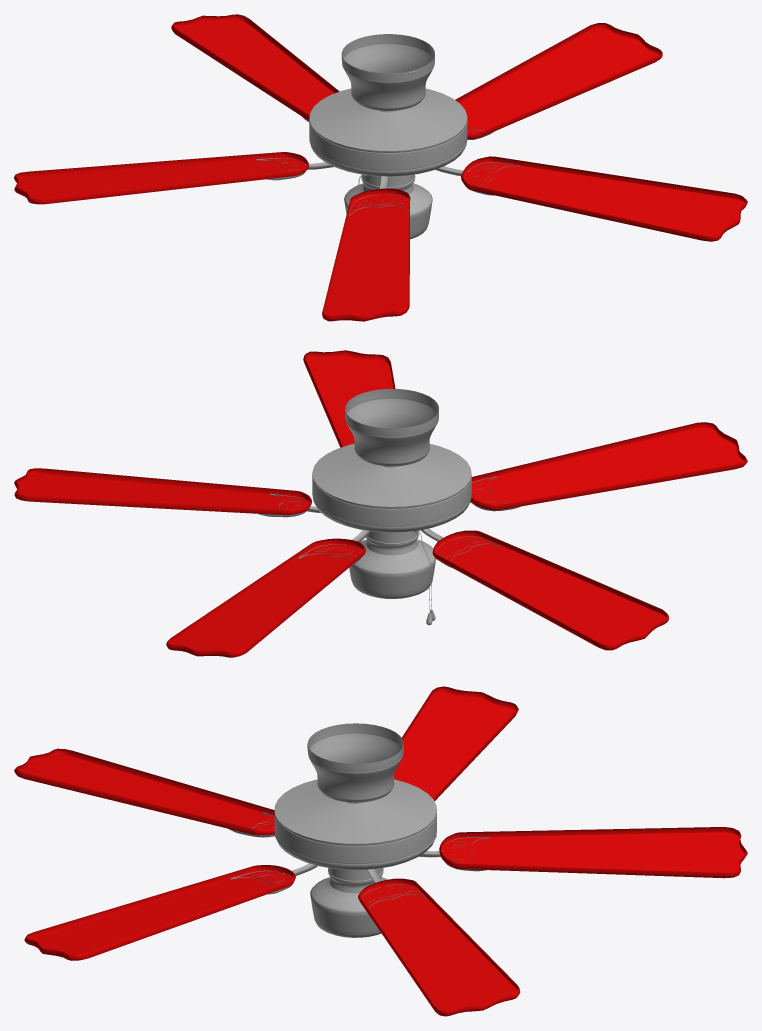
Rendered from ceilingFan_L.fbx.
3 views of the same model, one above another, from view 1: azimuth 30°, elevation 25°; view 2: azimuth 150°, elevation 25°; view 3: azimuth 270°, elevation 25° (orthographic). The views are drawn at different scales.
Visible parts, largest first — view 1: CF_FanBlades, CF_mainMotor1; view 2: CF_FanBlades, CF_mainMotor1; view 3: CF_FanBlades, CF_mainMotor1.
Boxes of the visible parts, left/top/right/bottom form: CF_FanBlades: left=14, top=14, right=747, bottom=321; CF_mainMotor1: left=309, top=34, right=467, bottom=239; CF_FanBlades: left=14, top=350, right=747, bottom=657; CF_mainMotor1: left=312, top=388, right=471, bottom=598; CF_FanBlades: left=14, top=686, right=747, bottom=1016; CF_mainMotor1: left=274, top=723, right=436, bottom=937.
Size of the model in its own units: 83.94 by 25.73 by 81.76.
